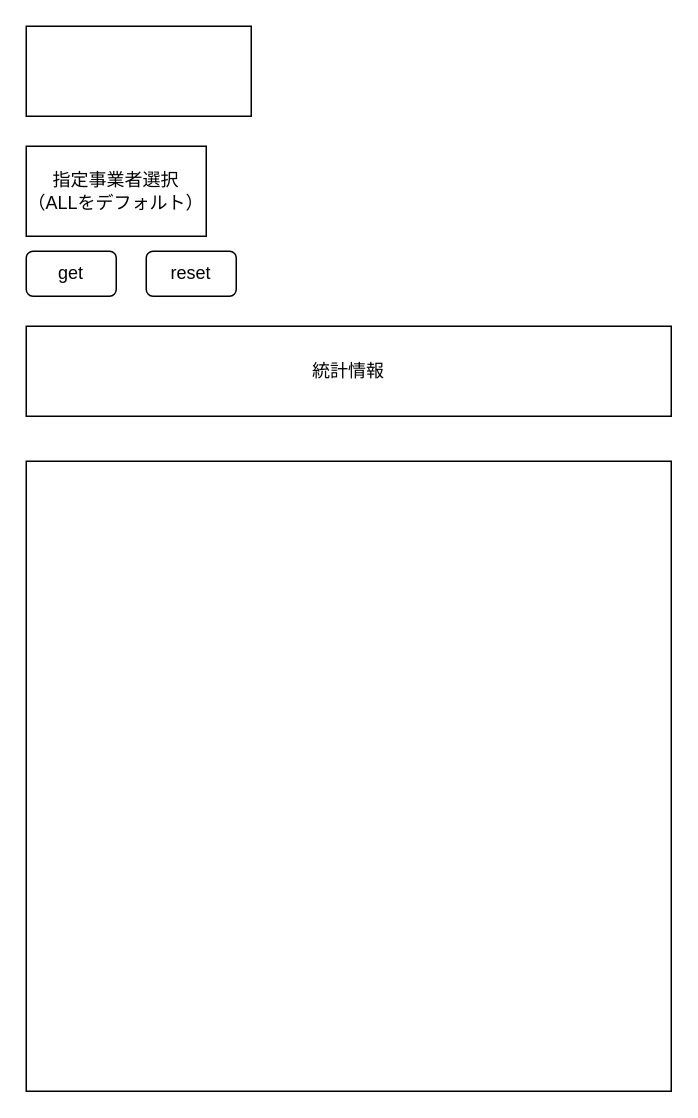
The diagram is 698 pixels wide and 1118 high, and some of its shapes have lost their labels. The shapes that lost their labels are listed below. From the top down, each one's centre as x and y in pixels, then its label:
[138,70]: カレンダー選択 （デフォルトを最新日）
[348,775]: tableで表示 CN、証明書タイプ、指定事業者、発行日、失効日
